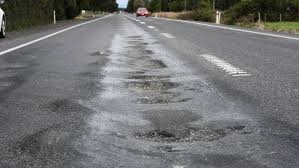pothole: (135, 124, 223, 143), (124, 72, 170, 104)
